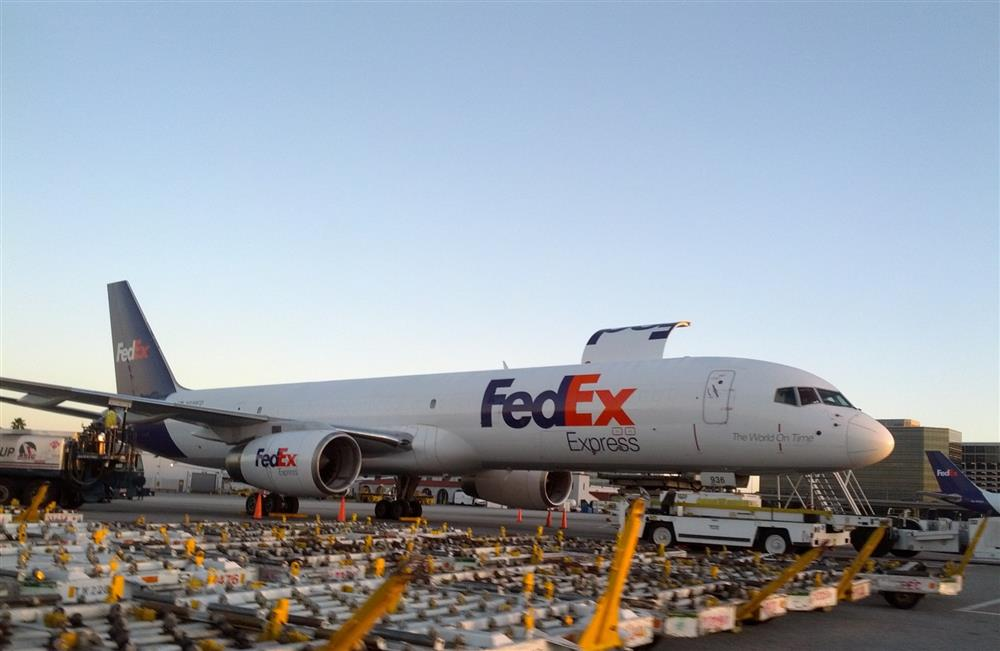FedEX: (476, 374, 639, 434)
